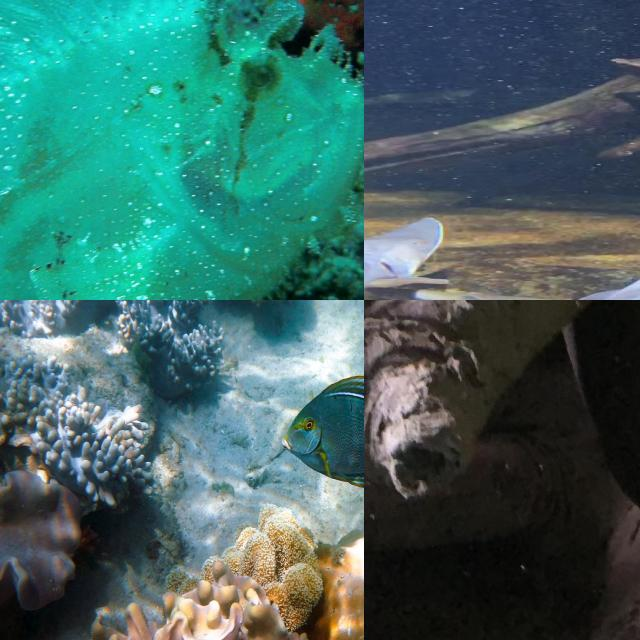fish: (0, 0, 364, 300), (226, 369, 364, 640), (551, 300, 640, 566), (364, 217, 640, 300)
